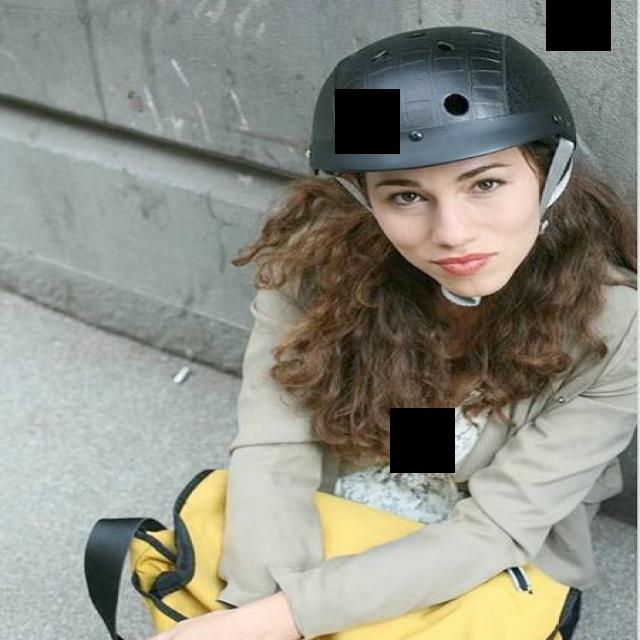Helmet: (303, 23, 579, 296)
